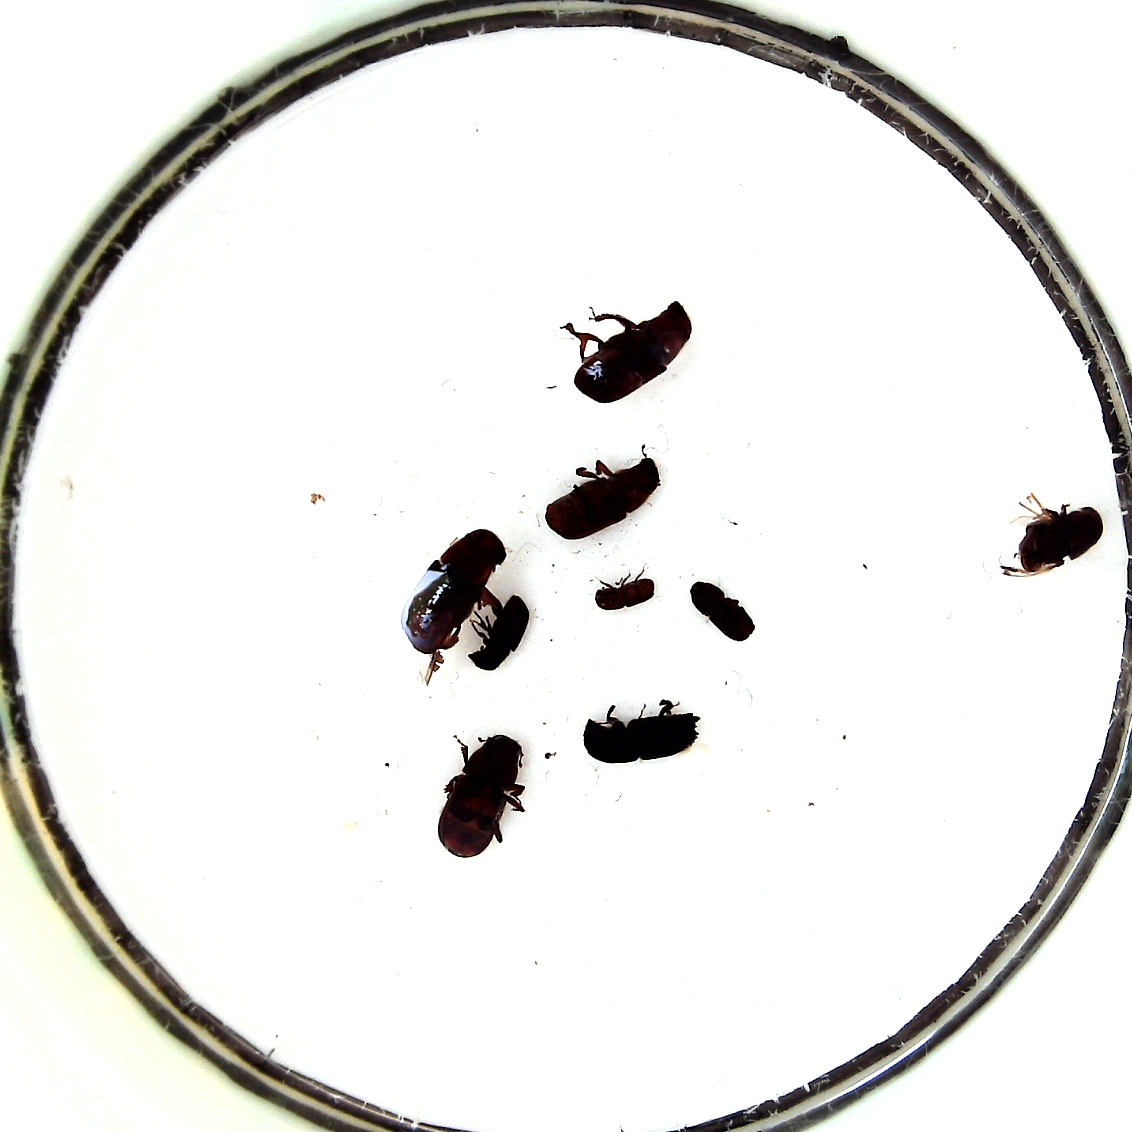Boerner: (582, 698, 703, 770)
Leconte: (558, 298, 694, 404), (402, 526, 507, 660), (432, 731, 527, 857), (543, 450, 661, 543), (1000, 492, 1105, 581)
Linnaeus: (689, 578, 755, 650)
acuminatus: (592, 566, 661, 614)
armandi: (464, 593, 531, 673)
